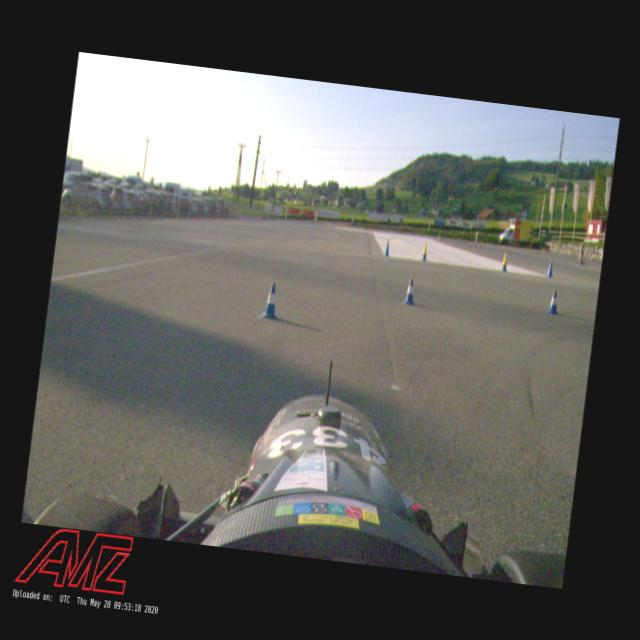blue_cone: (260, 280, 281, 321), (402, 276, 417, 306), (548, 290, 560, 316), (546, 258, 554, 278), (384, 238, 391, 256), (501, 264, 506, 272)
yellow_cone: (421, 241, 428, 254), (501, 252, 508, 264)
